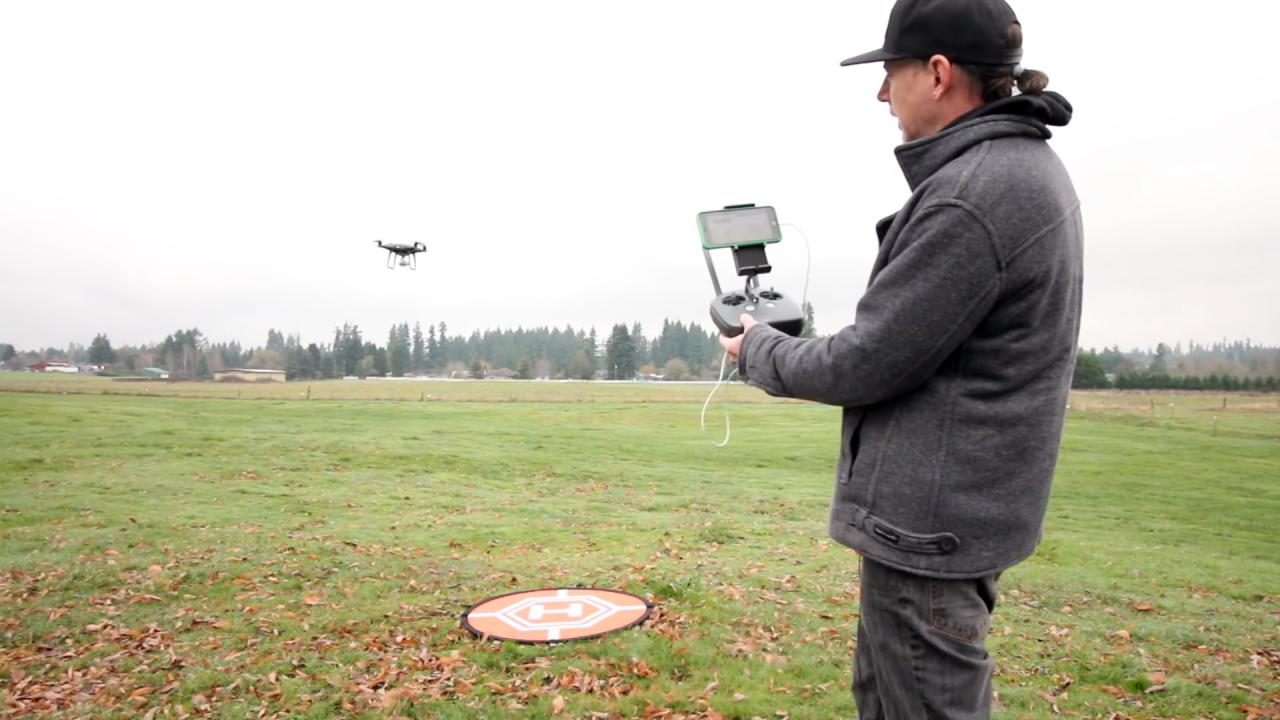Drone: (363, 226, 434, 282)
